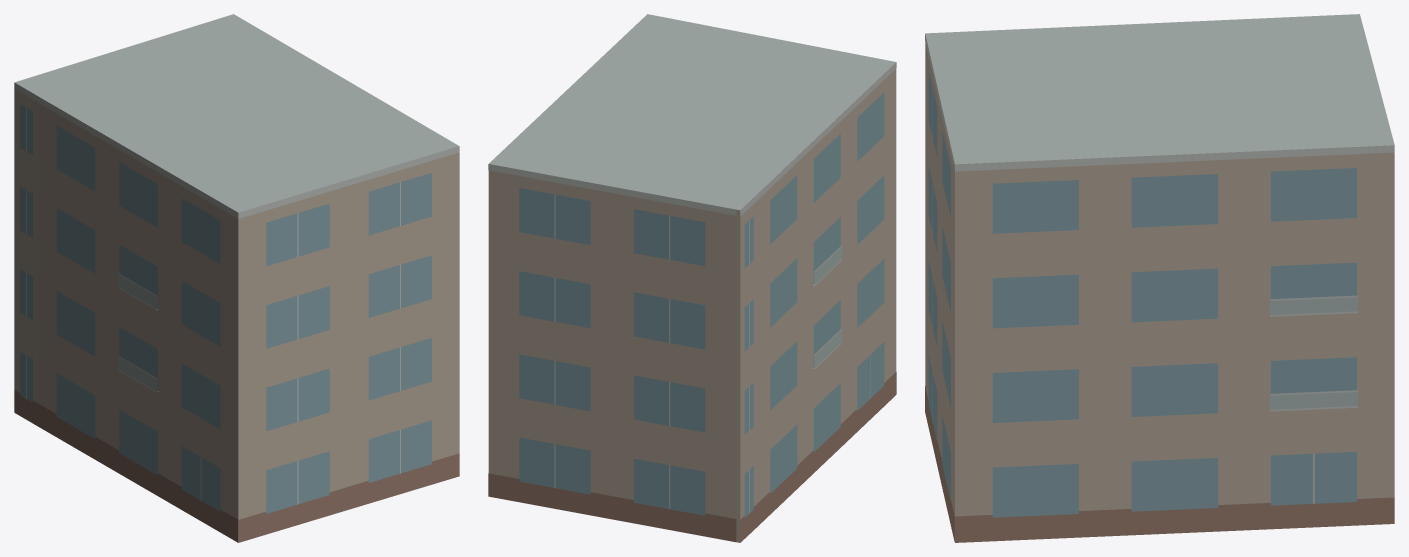
Rendered from survey-upis-32665714.glb.
The picture shows the model from 3 angles, left to right: view 1: azimuth 30°, elevation 25°; view 2: azimuth 150°, elevation 25°; view 3: azimuth 270°, elevation 25°; orthographic projection. The views are drawn at different scales.
Visible parts, largest first — view 1: survey-upis-32665714.tmp; view 2: survey-upis-32665714.tmp; view 3: survey-upis-32665714.tmp.
Part boxes in pixels (x1,y1,x2,y2): survey-upis-32665714.tmp: [14, 14, 459, 542]; survey-upis-32665714.tmp: [488, 14, 896, 542]; survey-upis-32665714.tmp: [925, 14, 1394, 542].
Size of the model in its own units: 10.91 by 12.8 by 14.4.
